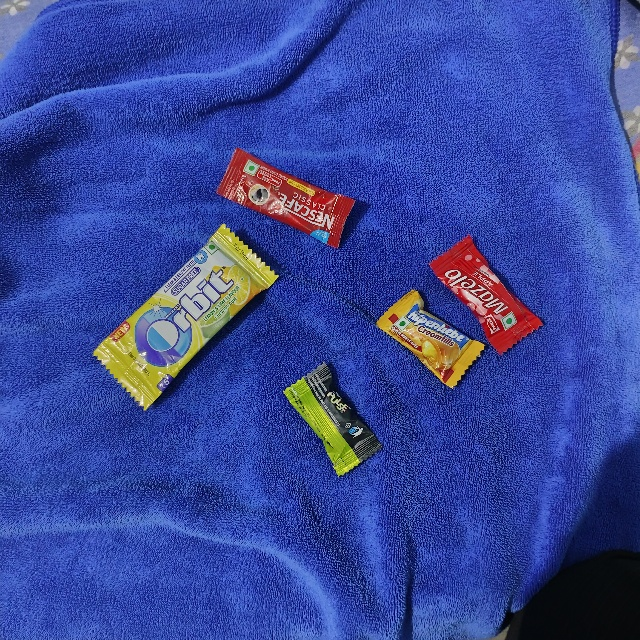Alpenlibe Creamfills: (367, 328, 430, 437)
Mazelo: (422, 264, 485, 390)
Nescafe Coffee: (232, 147, 374, 201)
Orbit: (88, 359, 284, 440)
Pulse: (276, 385, 338, 495)
